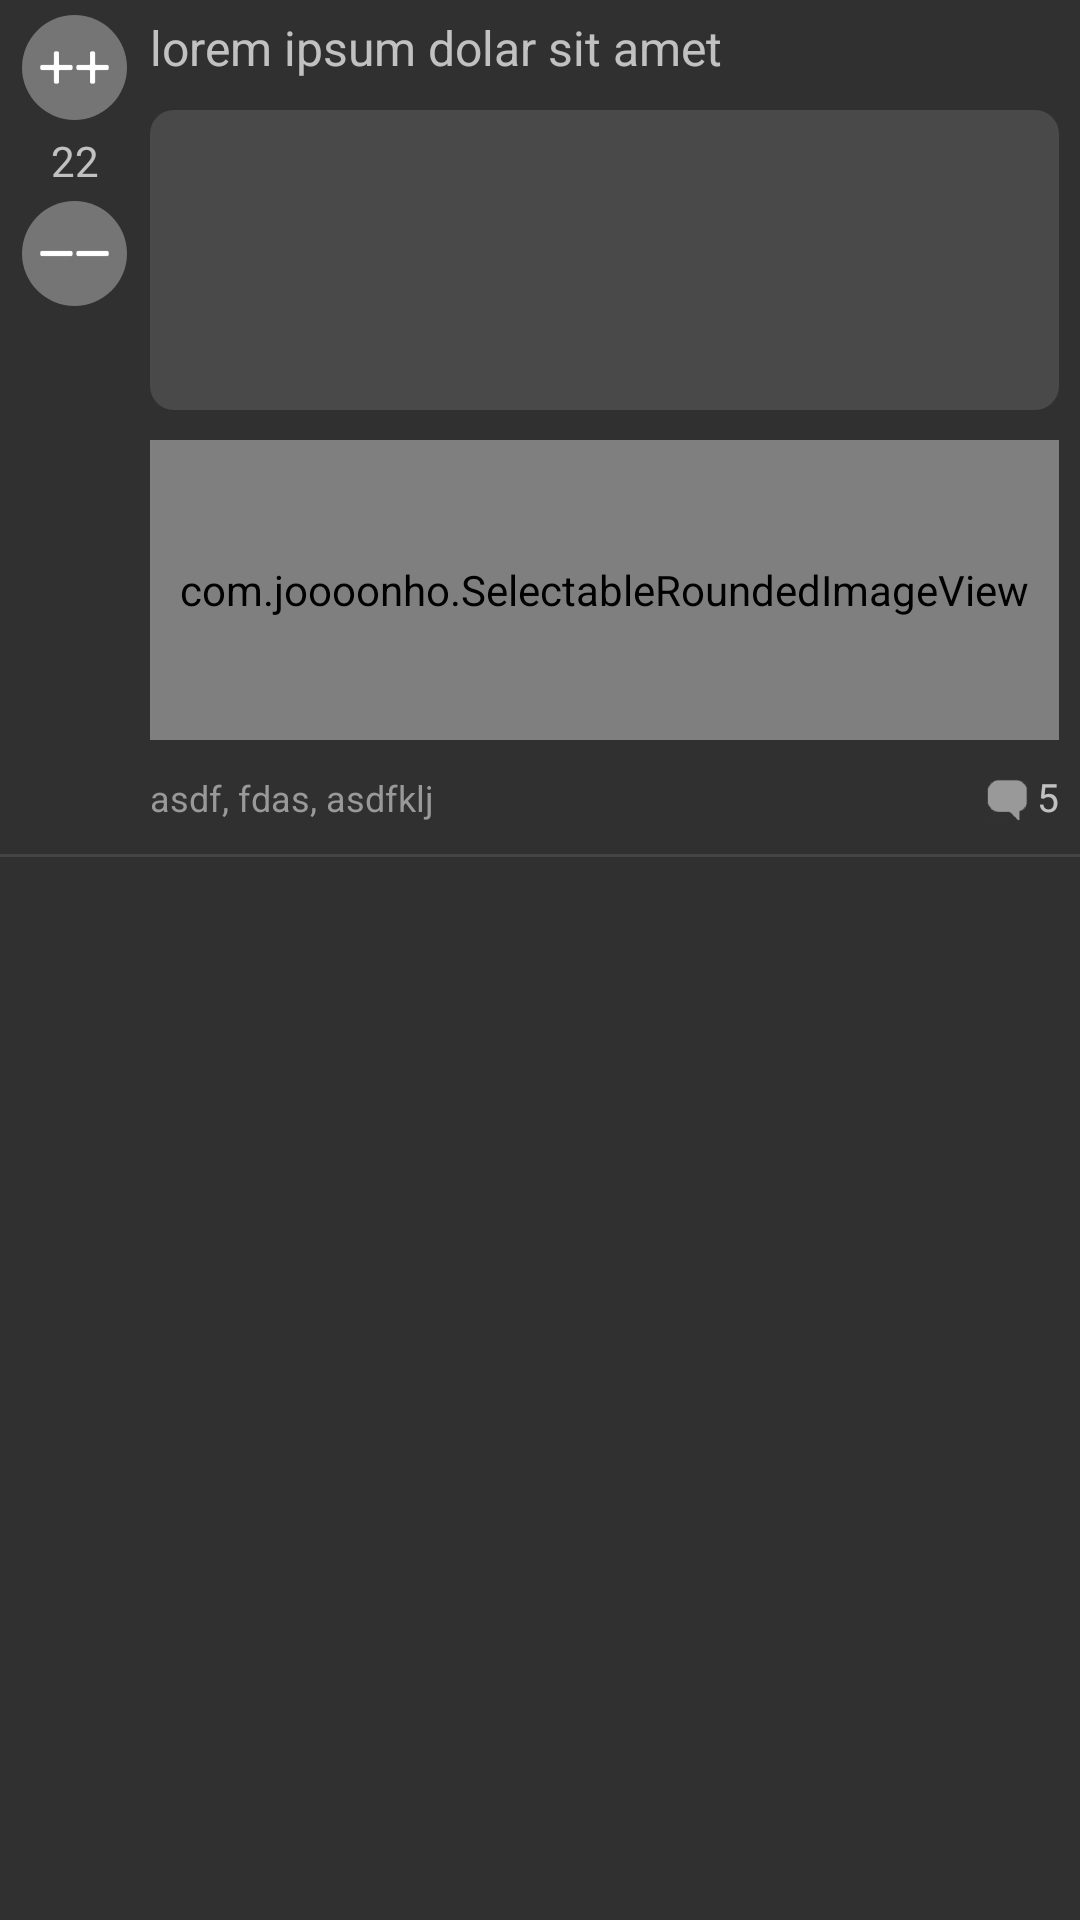

Screen size 1080px x 1920px. Icon name, then its center in pixels as (x,y):
comment: (1007,800)
minusminus: (74,253)
plusplus: (74,67)
